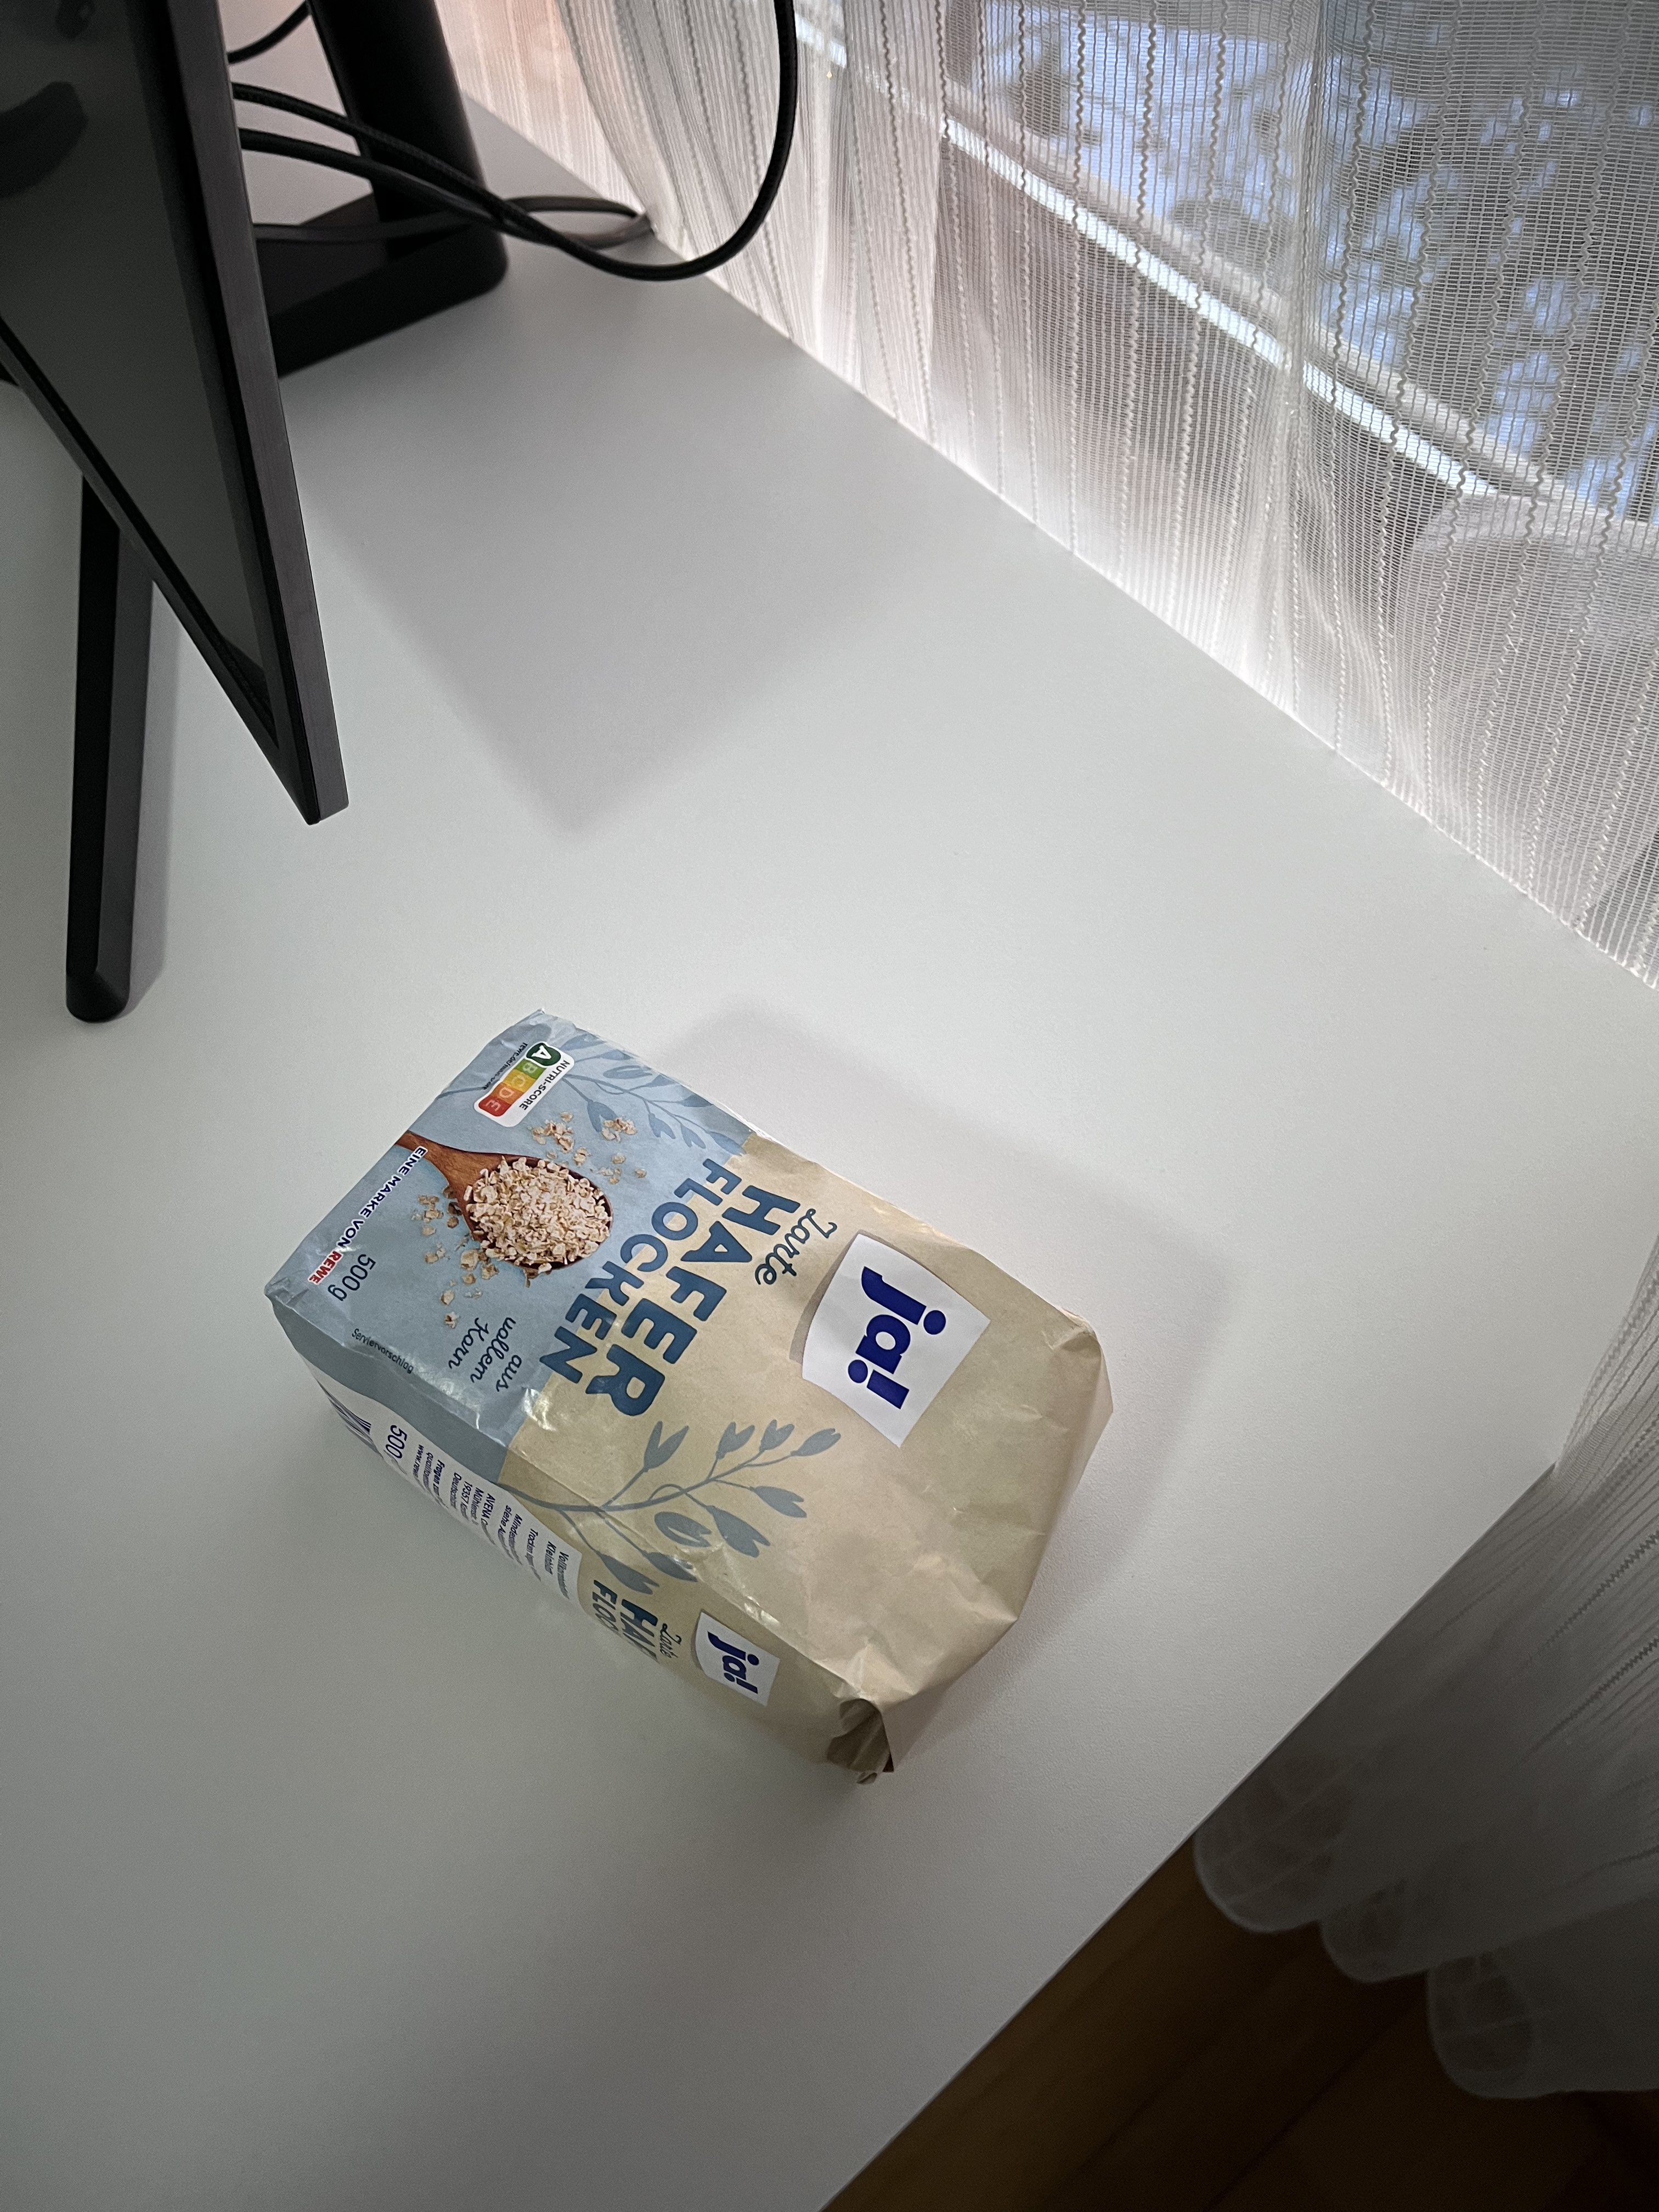haferflocken_ja: (270, 1008, 1115, 1792)
